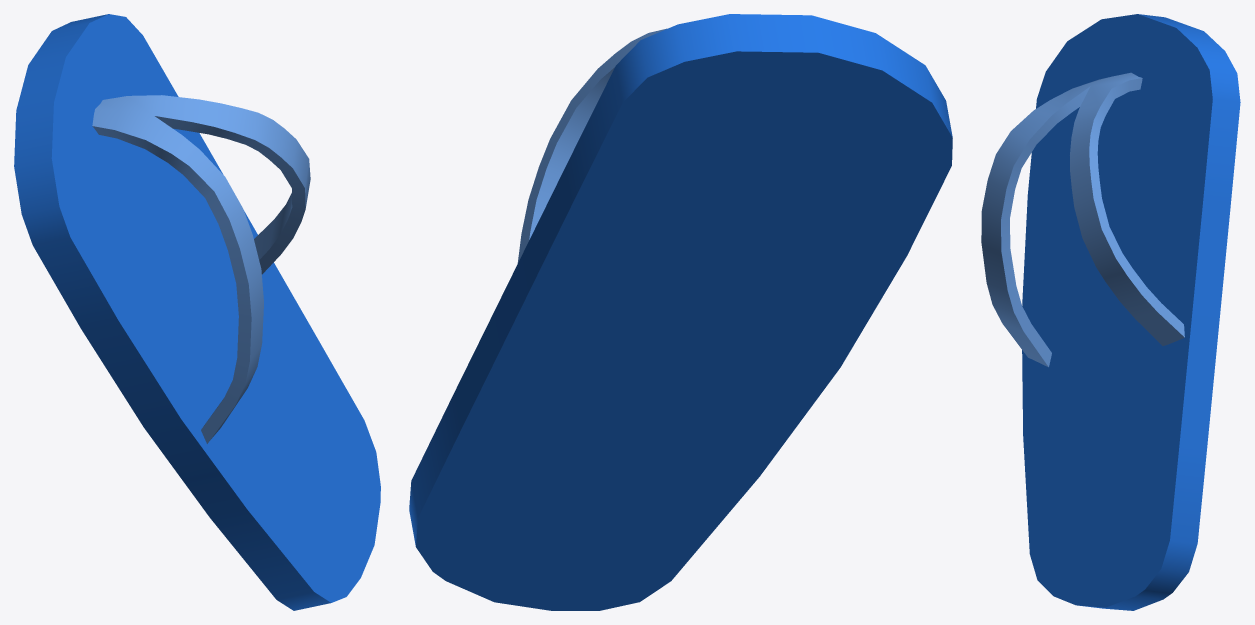
File: Thong_Sandal.gltf
The picture shows the model from 3 angles, left to right: view 1: azimuth 30°, elevation 25°; view 2: azimuth 150°, elevation 25°; view 3: azimuth 270°, elevation 25°; orthographic projection. The views are drawn at different scales.
Parts seen in each view (by area): view 1: Cube.6116; view 2: Cube.6116; view 3: Cube.6116.
Part boxes in pixels (<box>): Cube.6116: <box>14,14,380,610</box>; Cube.6116: <box>409,14,952,610</box>; Cube.6116: <box>981,14,1240,610</box>.
Size of the model in its own units: 1.49 by 2.05 by 0.956.
